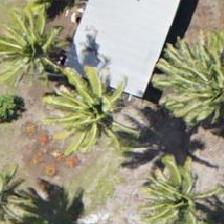coconut_tree: (47, 62, 137, 152), (0, 2, 75, 92), (132, 154, 222, 223), (162, 34, 223, 124)
